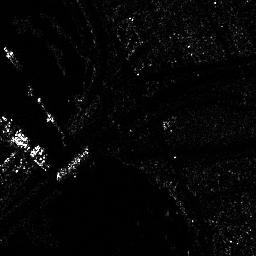ship: (54, 146, 88, 179), (1, 45, 18, 66)
